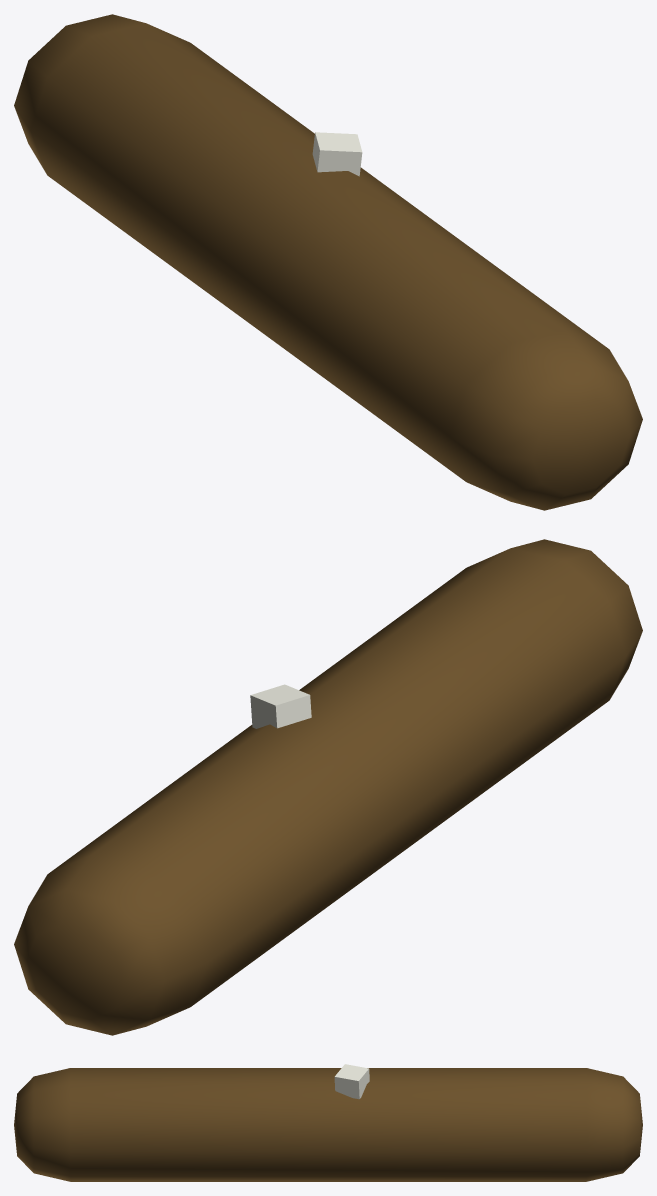
Rendered from shot_pretzel_stick.glb.
3 views of the same model, one above another, from view 1: azimuth 30°, elevation 25°; view 2: azimuth 150°, elevation 25°; view 3: azimuth 270°, elevation 25° (orthographic). The views are drawn at different scales.
Visible parts, largest first — view 1: ps_body, ps_salt; view 2: ps_body, ps_salt; view 3: ps_body, ps_salt.
Part boxes in pixels (box(x1,y1,x2,y2)): ps_body: box(14, 14, 642, 510); ps_salt: box(312, 132, 362, 176); ps_body: box(14, 539, 642, 1035); ps_salt: box(250, 684, 311, 728); ps_body: box(14, 1068, 642, 1181); ps_salt: box(334, 1064, 369, 1099).
Bounding box in the file's own units: 2 × 1.95 × 10.
